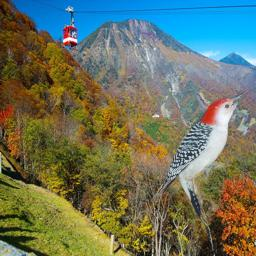Woodpecker: (149, 92, 250, 223)
